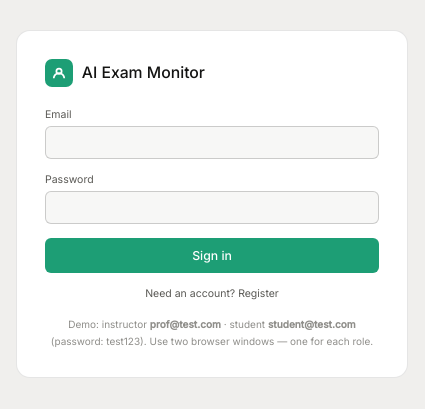
Test: Login › shows an error message when authentication fails
Type "x@test.com" into the field.
click(212, 143); type("x@test.com")  # box [45,126,379,159]
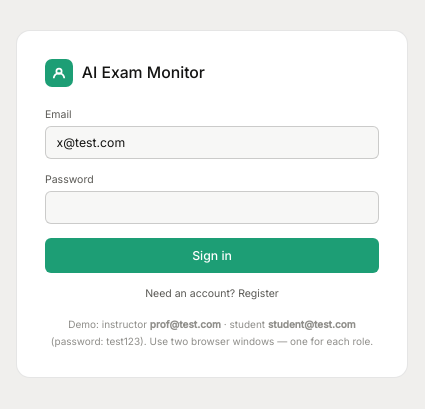
Type "wrong" into the password field.
click(212, 208); type("wrong")  # box [45,191,379,224]
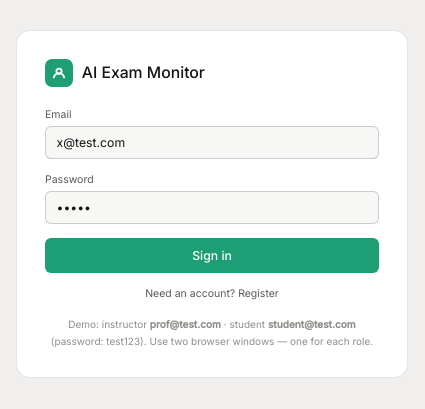
Click the button "Sign in".
click(212, 256)  # box [45,238,379,273]
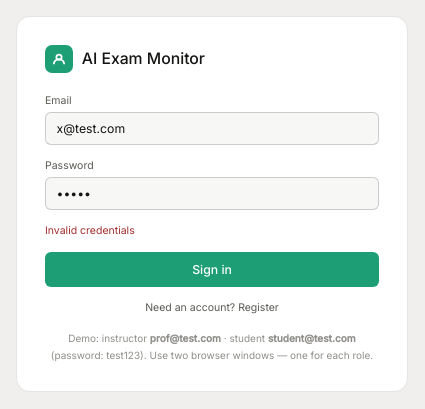
expect the text "Invalid credentials" is shown: met, box [45,224,135,237]
